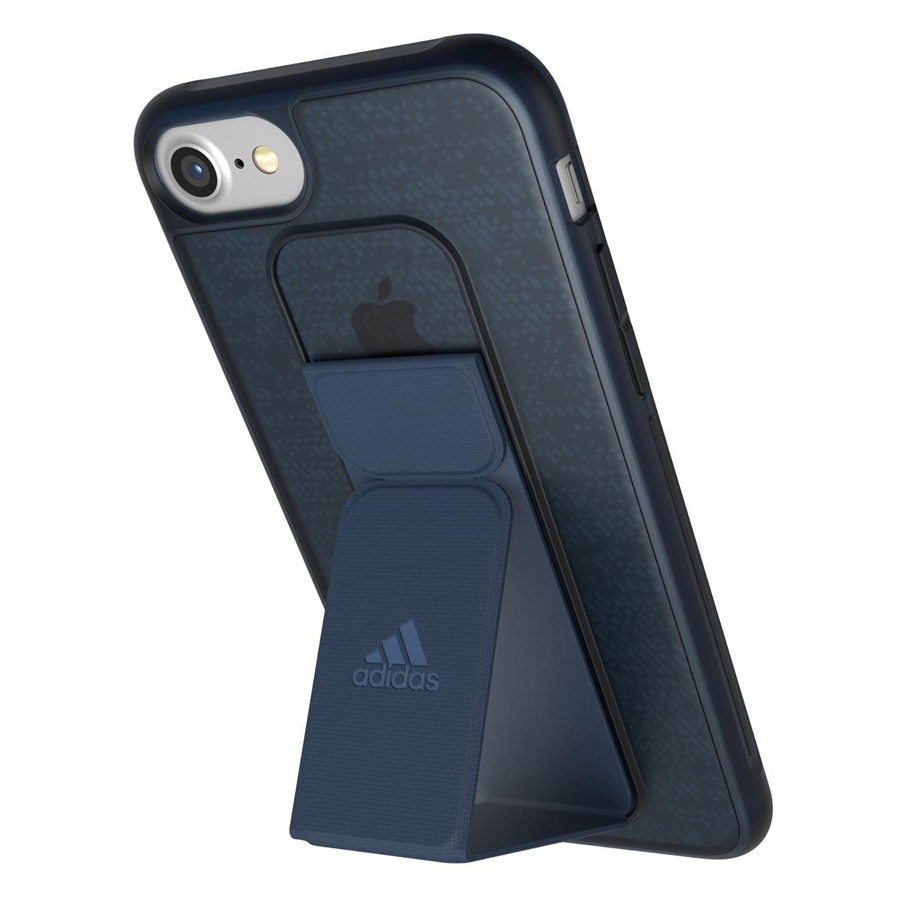Adidas: (348, 613, 445, 698)
